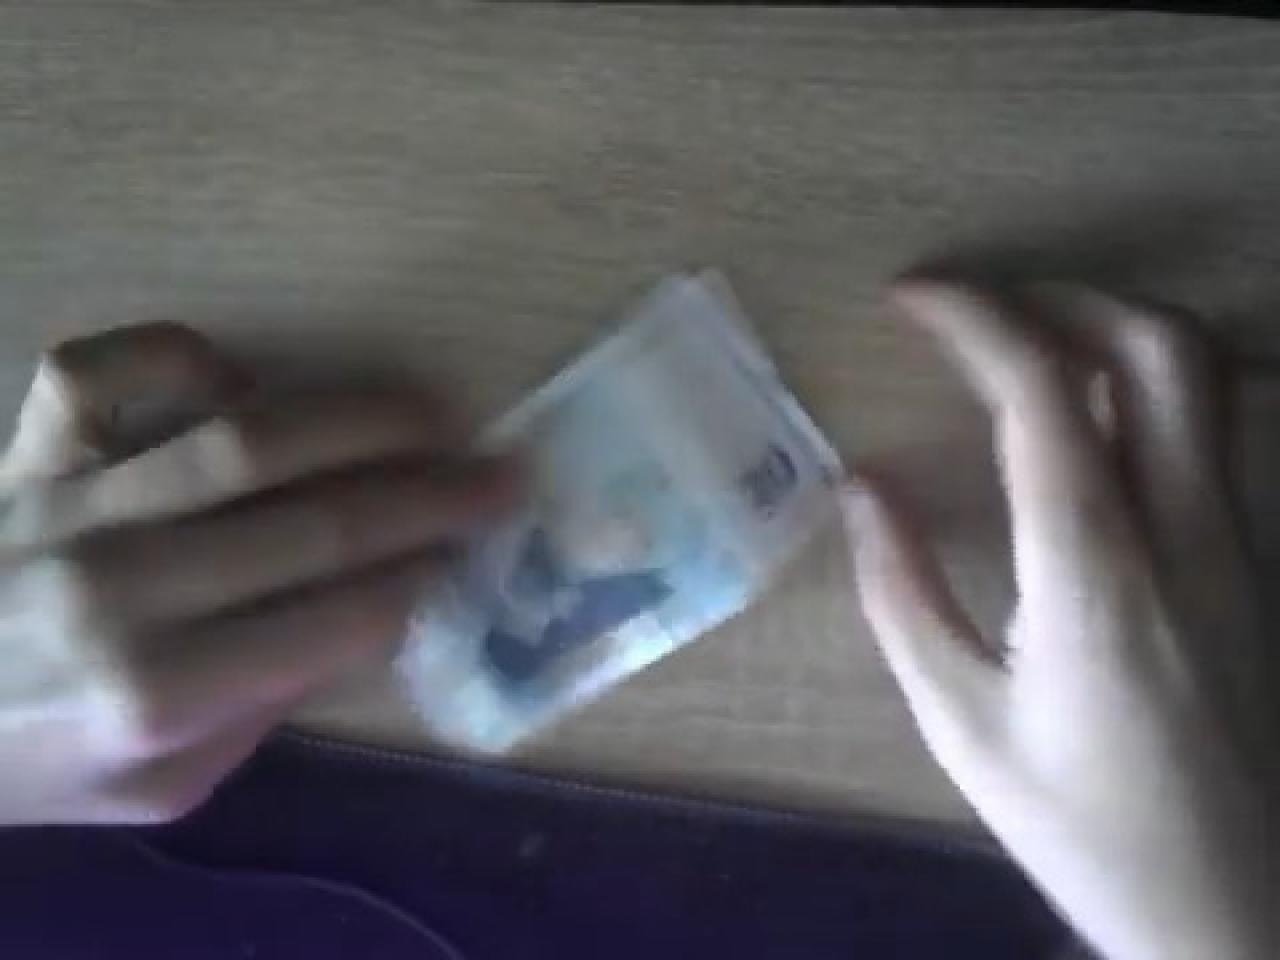20leva: (392, 261, 840, 752)
